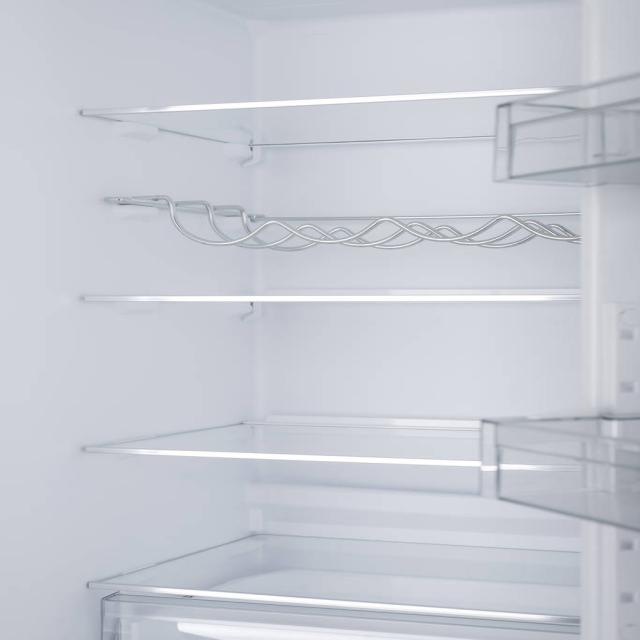fridge-space: (126, 498, 574, 613), (121, 364, 576, 464), (111, 150, 587, 240), (110, 48, 573, 108), (91, 256, 577, 298)
